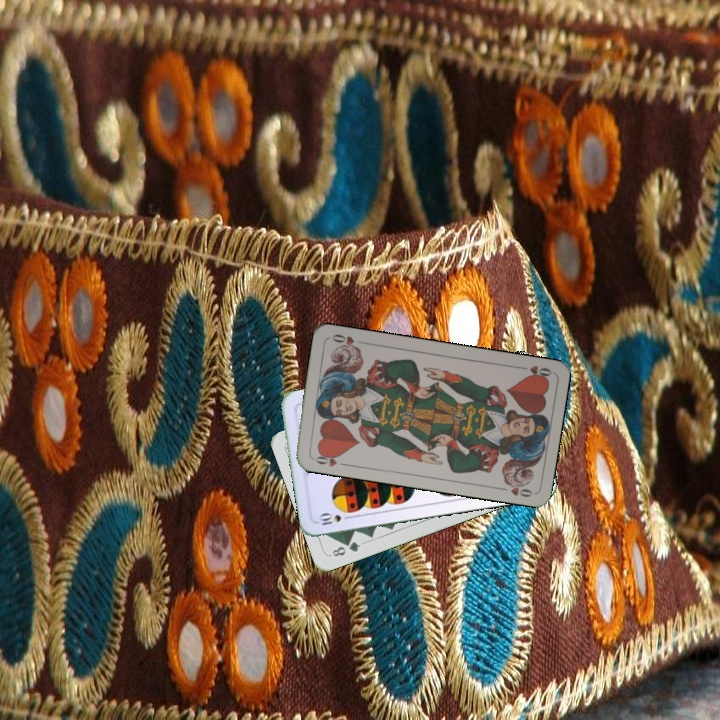G8: (328, 537, 363, 559)
HO: (308, 448, 349, 469), (513, 361, 554, 382)
S10: (314, 510, 354, 528)
